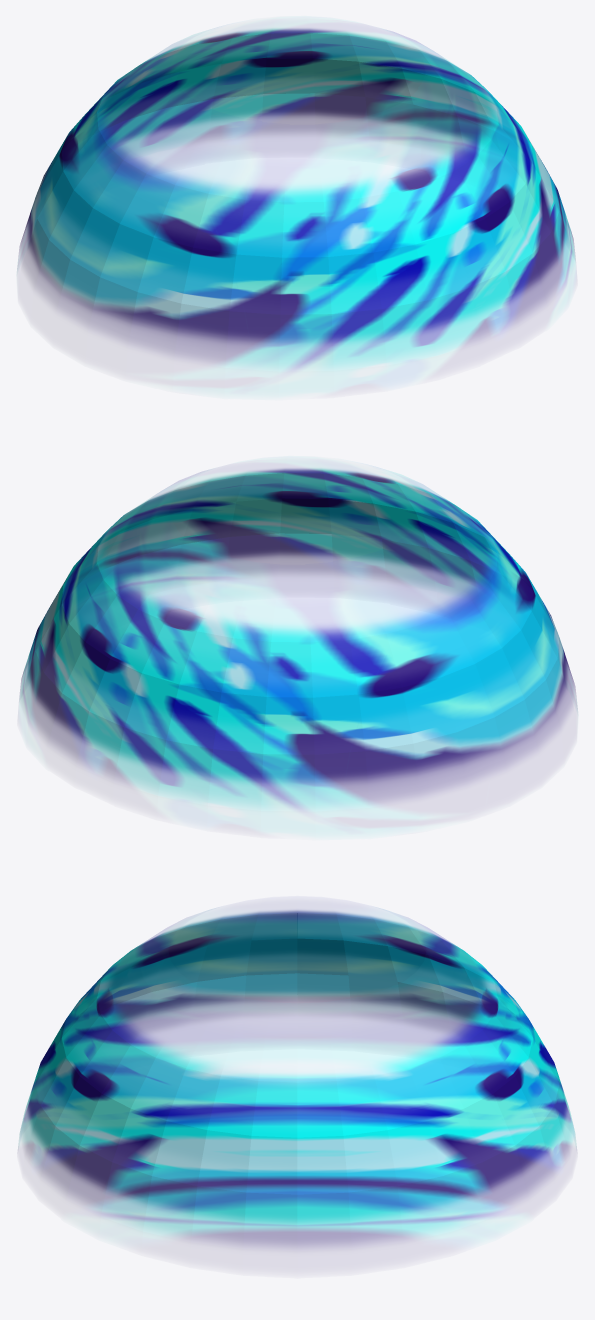
File: 25-blau.glb
3 views of the same model, one above another, from view 1: azimuth 30°, elevation 25°; view 2: azimuth 150°, elevation 25°; view 3: azimuth 270°, elevation 25° (orthographic).
Parts seen in each view (by area): view 1: universe.001; view 2: universe.001; view 3: universe.001.
Part boxes in pixels (box(x1,y1,x2,y2)): universe.001: box(17, 28, 575, 370); universe.001: box(19, 468, 577, 810); universe.001: box(18, 909, 576, 1251).
Size of the model in its own units: 5.8 by 3 by 5.8.
Materials: 1 (1 with a texture image).
